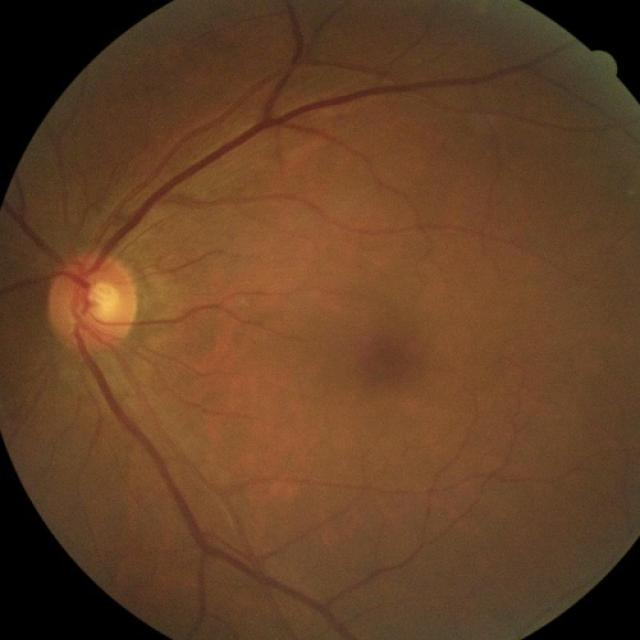OC: (86, 281, 120, 320)
OD: (48, 252, 138, 351)
